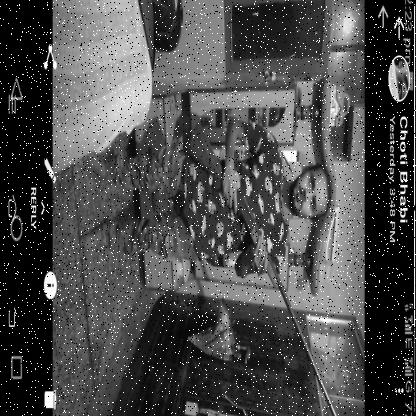rifle: (183, 121, 336, 415)
